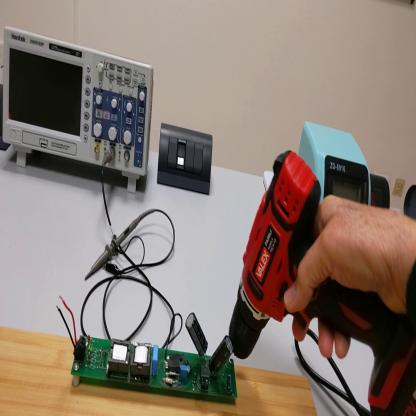electric screwdriver: (228, 149, 416, 416)
hand: (283, 192, 410, 363)
high voltage board: (56, 295, 238, 404)
oscilloscope: (3, 29, 155, 197)
socket: (371, 172, 392, 211), (2, 85, 12, 149), (406, 181, 415, 222)
welder station: (296, 117, 374, 215)
working area: (1, 326, 319, 416)
